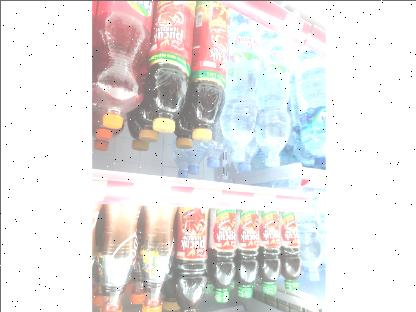Plastic Bottle: (180, 0, 232, 138), (144, 0, 192, 134), (220, 6, 260, 163), (254, 14, 292, 172), (98, 1, 144, 130), (136, 200, 172, 312), (173, 206, 208, 312), (204, 201, 235, 304), (257, 202, 282, 300), (232, 204, 256, 300), (282, 206, 304, 296)
